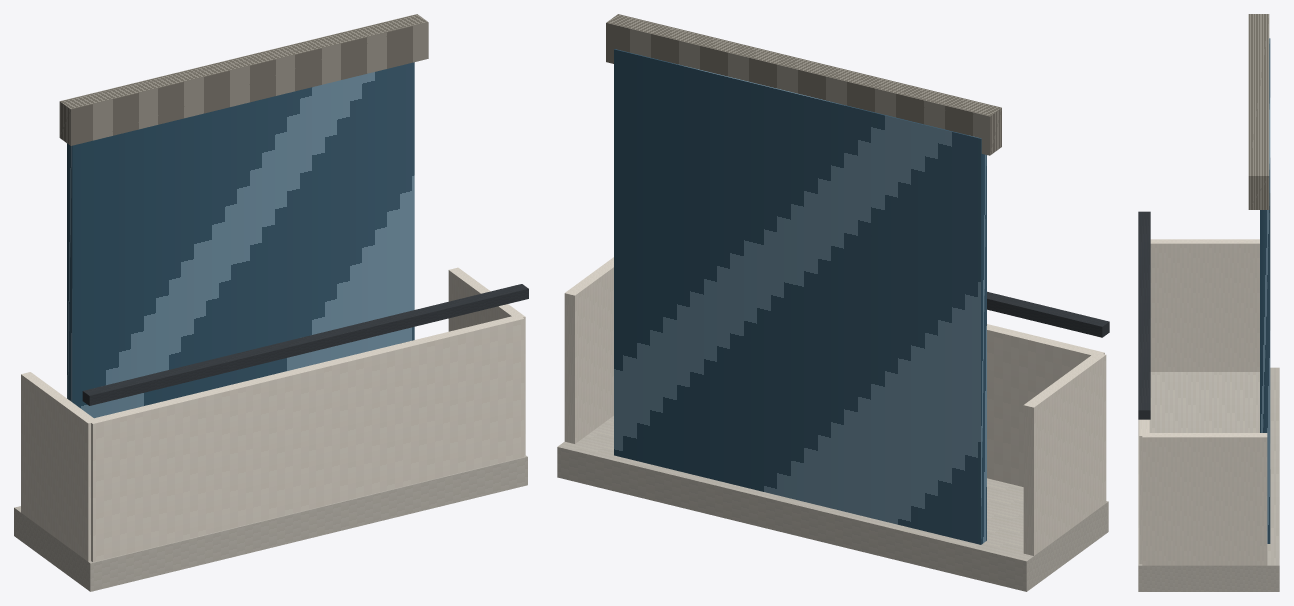
Rendered from balcony-modern-lod0.glb.
3 views of the same model, side by side, from view 1: azimuth 30°, elevation 25°; view 2: azimuth 150°, elevation 25°; view 3: azimuth 270°, elevation 25° (orthographic). The views are drawn at different scales.
Parts seen in each view (by area): view 1: balcony-modern-lod0; view 2: balcony-modern-lod0; view 3: balcony-modern-lod0.
Part boxes in pixels (bbox=[...]): balcony-modern-lod0: bbox=[14, 14, 528, 591]; balcony-modern-lod0: bbox=[557, 14, 1109, 591]; balcony-modern-lod0: bbox=[1138, 14, 1279, 591].
Size of the model in its own units: 2.26 by 2.11 by 0.68.
Materials: 1 (1 with a texture image).
